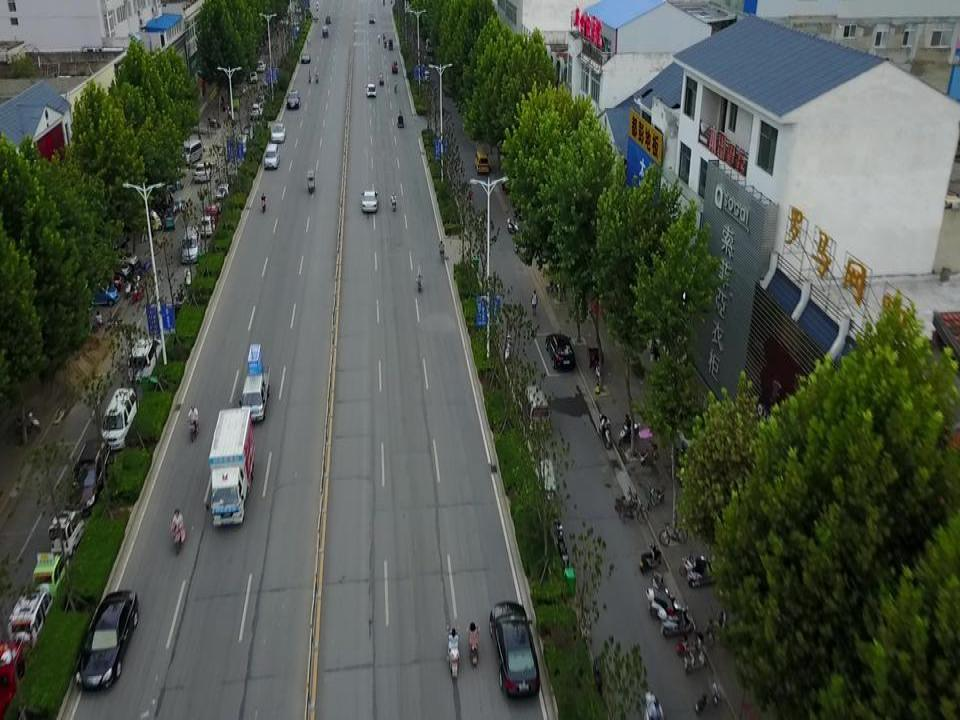car: (74, 591, 139, 692), (489, 600, 539, 699), (676, 419, 710, 464), (545, 333, 575, 371), (80, 280, 120, 305), (89, 269, 124, 292), (95, 260, 132, 281), (99, 248, 137, 267), (194, 162, 213, 182), (361, 191, 378, 212), (270, 122, 286, 142), (286, 90, 301, 110), (365, 83, 376, 97), (301, 52, 310, 63), (422, 70, 430, 82)
truck: (208, 407, 255, 528), (239, 365, 270, 423)
van: (64, 438, 114, 518), (101, 388, 137, 452), (127, 337, 162, 383), (524, 385, 550, 436), (179, 225, 200, 264), (179, 139, 204, 165), (474, 149, 489, 175), (264, 146, 279, 170)
